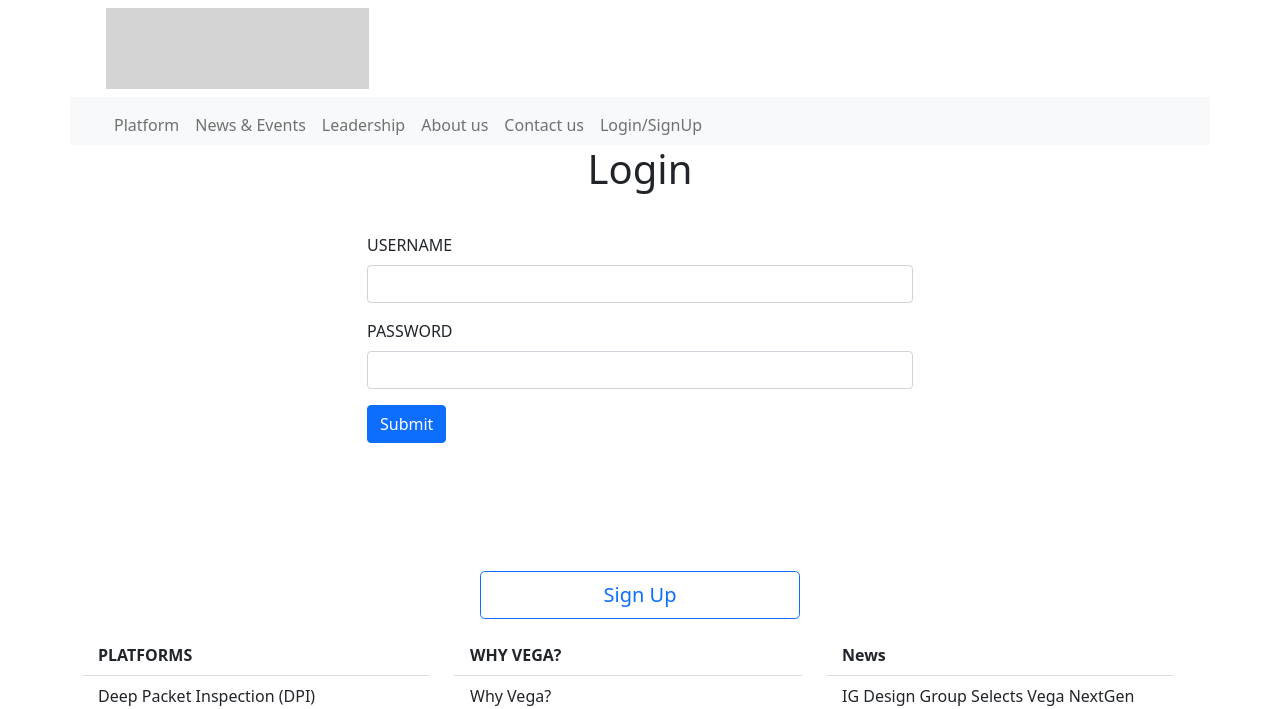
Test: Login › form › displays error message when username field is unfilled
In the password field labelled "PASSWORD": (640, 370) [367,351,913,389], type "password"
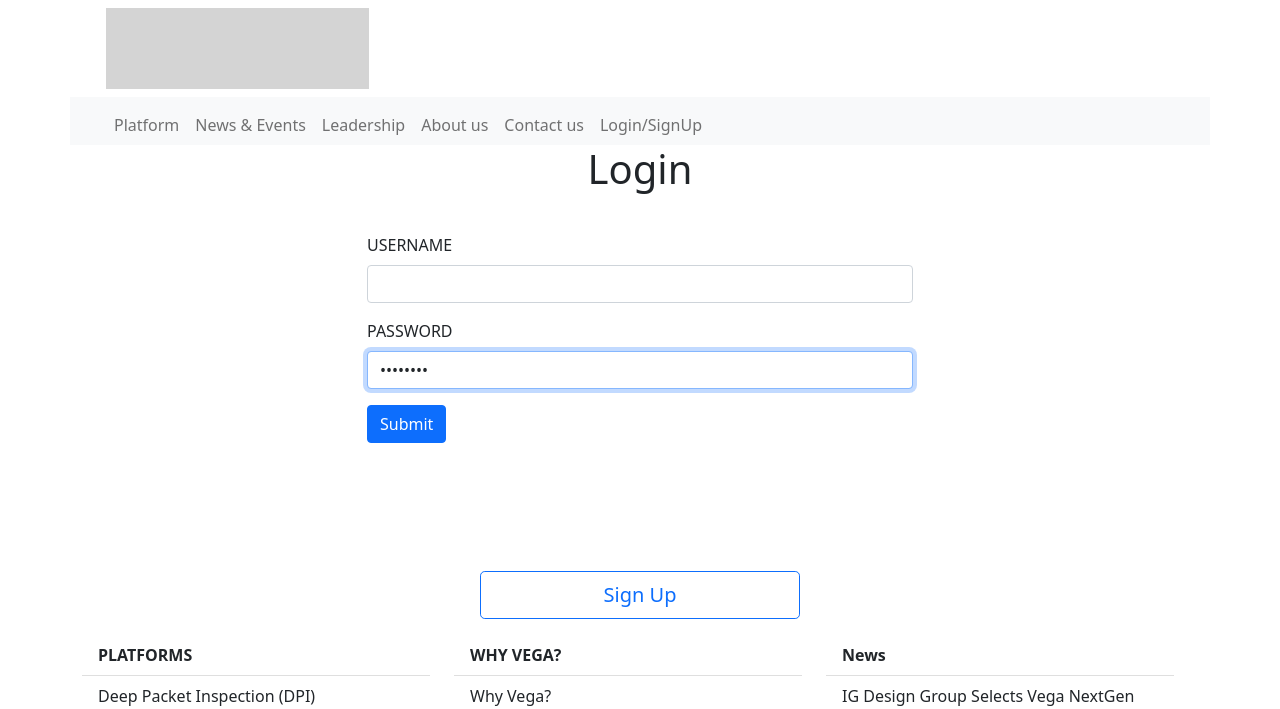
Click the button "Submit": (407, 424) [367,405,446,443]
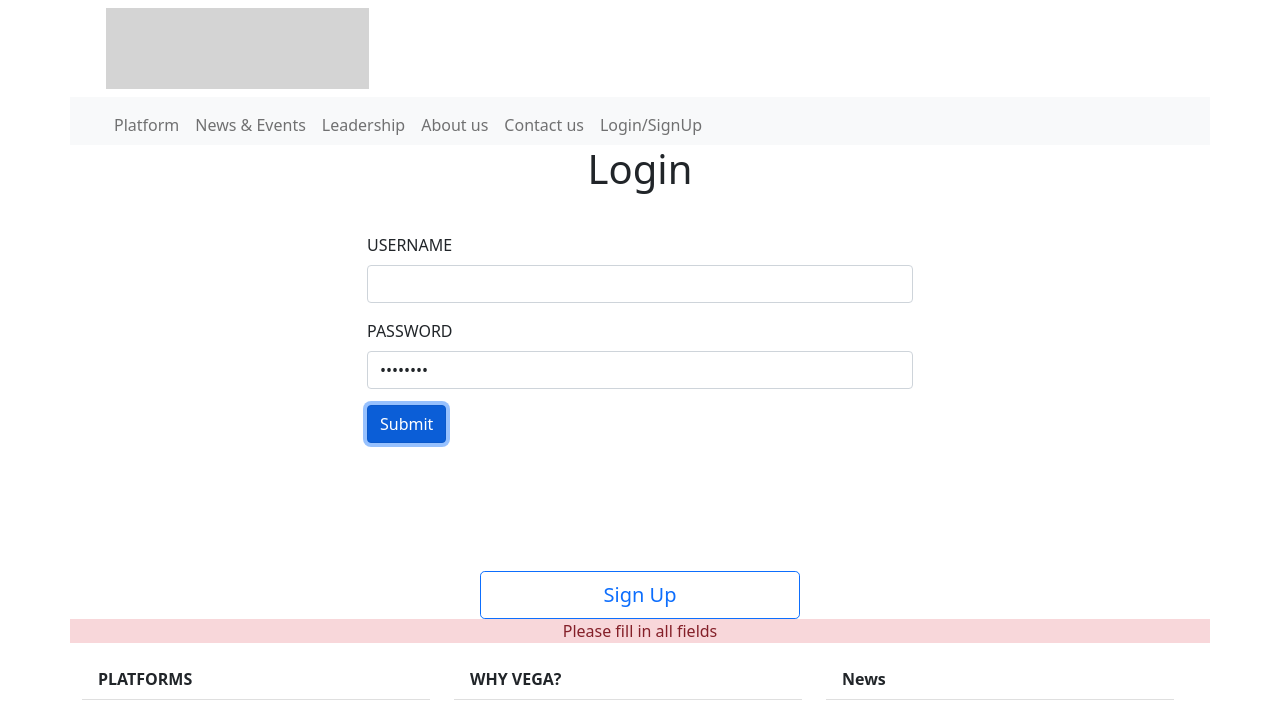
Now the text "Please fill in all fields" is shown, box [70,619,1210,643]
